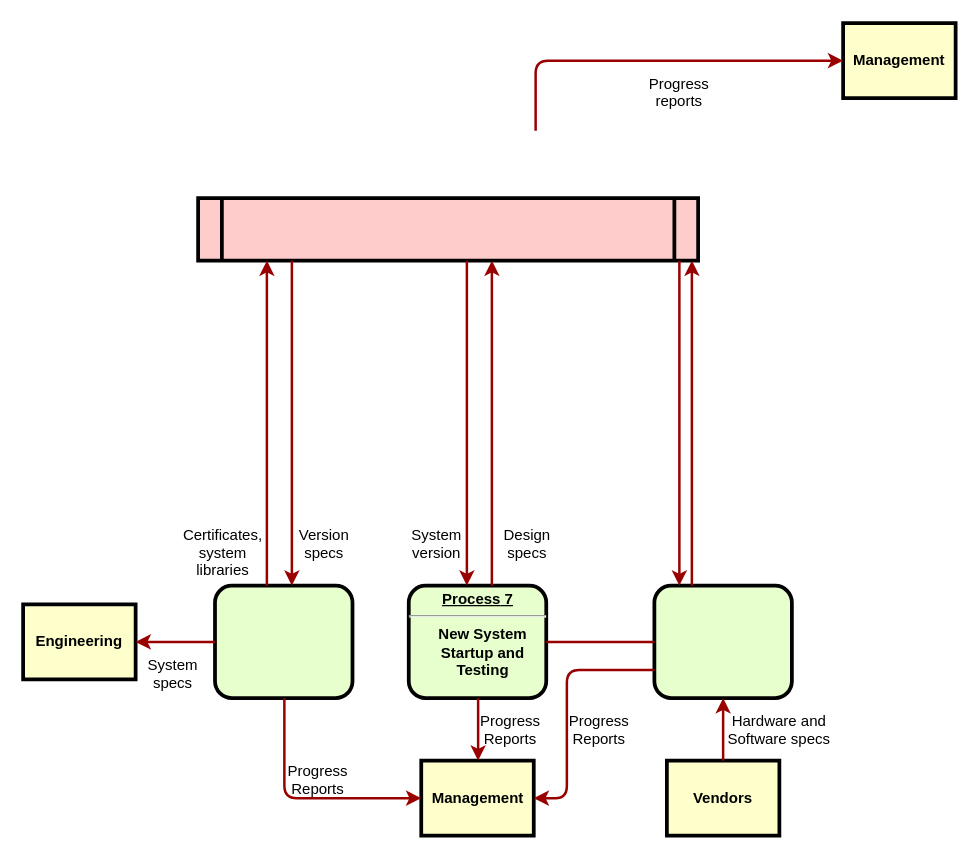
Image size: 979x859. Some labels were removed from this diagram. The centre of each missing label's shape, as x and y in pixels:
"MainMenu" goes at [447,229].
"Process 5 New System Design" goes at [722,641].
"Process 6 New System Construction" goes at [283,641].
